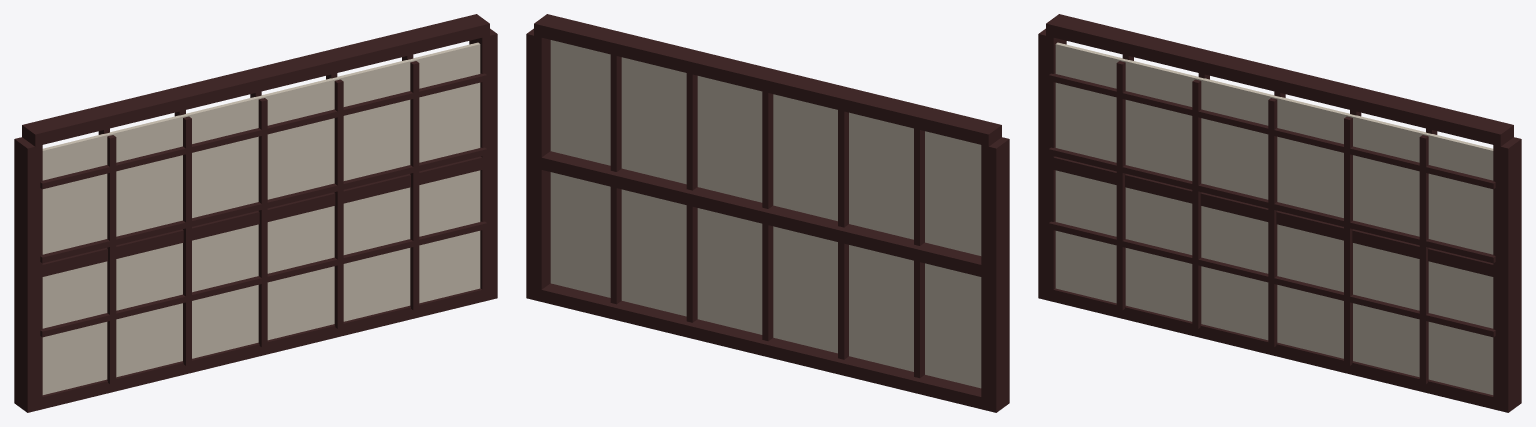
The model's file is dojo_shoji_wall.obj.
3 renders of one model, left to right at view 1: azimuth 30°, elevation 25°; view 2: azimuth 150°, elevation 25°; view 3: azimuth 330°, elevation 25°, orthographic.
Visible parts, largest first — view 1: dojo_shoji_wall; view 2: dojo_shoji_wall; view 3: dojo_shoji_wall.
Part boxes in pixels (x1,y1,x2,y2): dojo_shoji_wall: [14, 14, 497, 412]; dojo_shoji_wall: [526, 14, 1009, 412]; dojo_shoji_wall: [1038, 14, 1521, 412].
Size of the model in its own units: 9.3 by 5.23 by 0.525.
